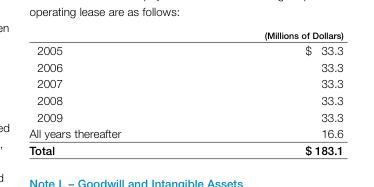table: (28, 29, 342, 156)
table column: (28, 29, 192, 156), (192, 29, 342, 156)
table column header: (28, 29, 342, 41)
table row: (28, 41, 342, 58), (28, 74, 342, 91), (28, 107, 342, 124), (28, 124, 342, 141), (28, 58, 342, 74), (28, 91, 342, 107), (28, 141, 342, 156), (28, 29, 342, 41)
